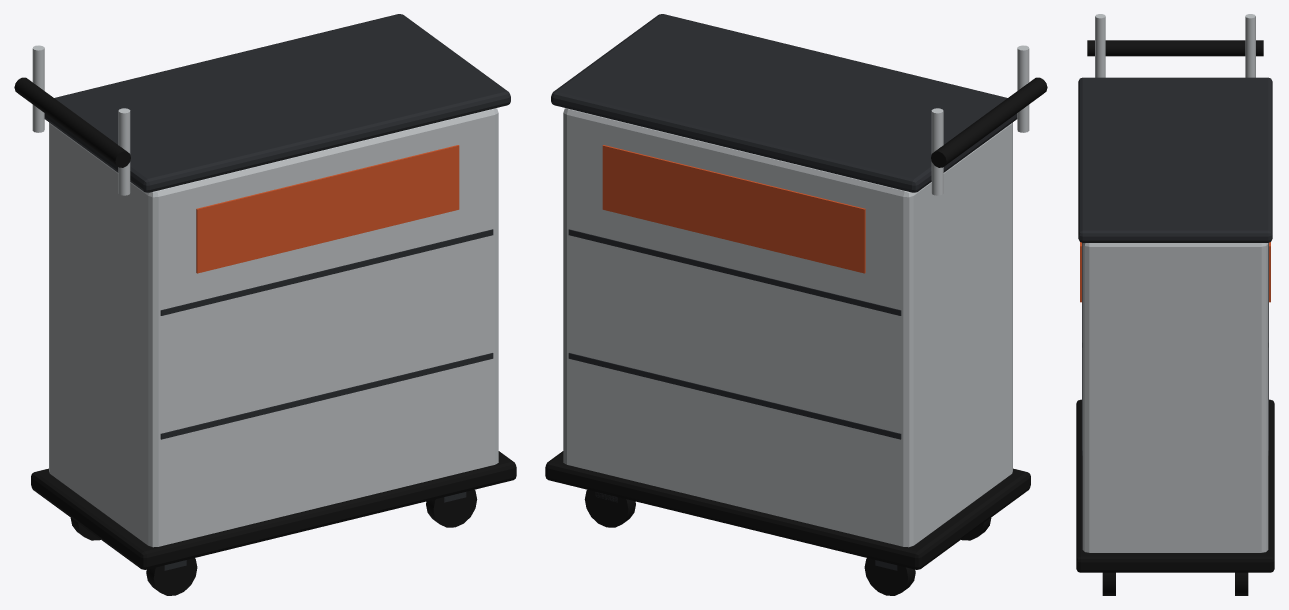
The model's file is food_cart.glb.
3 views of the same model, side by side, from view 1: azimuth 30°, elevation 25°; view 2: azimuth 150°, elevation 25°; view 3: azimuth 270°, elevation 25° (orthographic). The views are drawn at different scales.
Parts seen in each view (by area): view 1: FoodCart; view 2: FoodCart; view 3: FoodCart.
Boxes of the visible parts, x1,y1,x2,y2 form: FoodCart: (14,14,516,595); FoodCart: (545,14,1047,595); FoodCart: (1076,14,1274,595).
Size of the model in its own units: 0.908 by 1.09 by 0.45.
